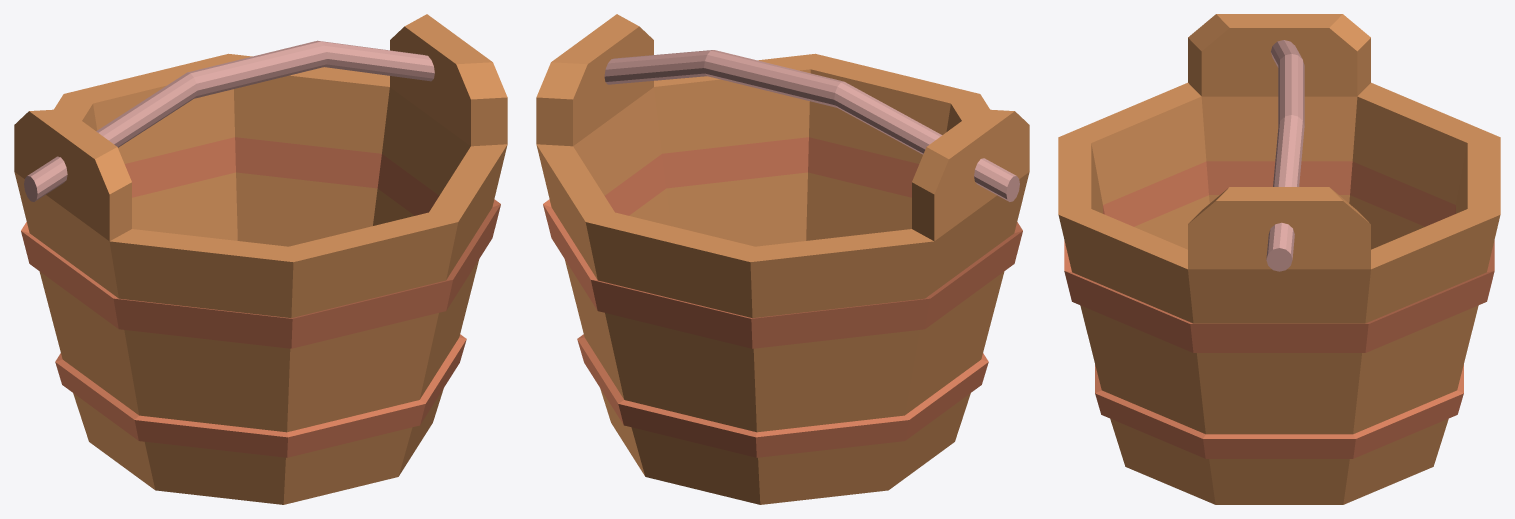
File: ENV_Bucket01_Placeholder02.fbx
3 renders of one model, left to right at view 1: azimuth 30°, elevation 25°; view 2: azimuth 150°, elevation 25°; view 3: azimuth 270°, elevation 25°, orthographic. The views are drawn at different scales.
Parts seen in each view (by area): view 1: Circle; view 2: Circle; view 3: Circle.
Part boxes in pixels (box(x1,y1,x2,y2)): Circle: box(14, 14, 507, 504); Circle: box(536, 14, 1029, 504); Circle: box(1058, 14, 1500, 504).
Size of the model in its own units: 59.1 by 68.35 by 52.5.
